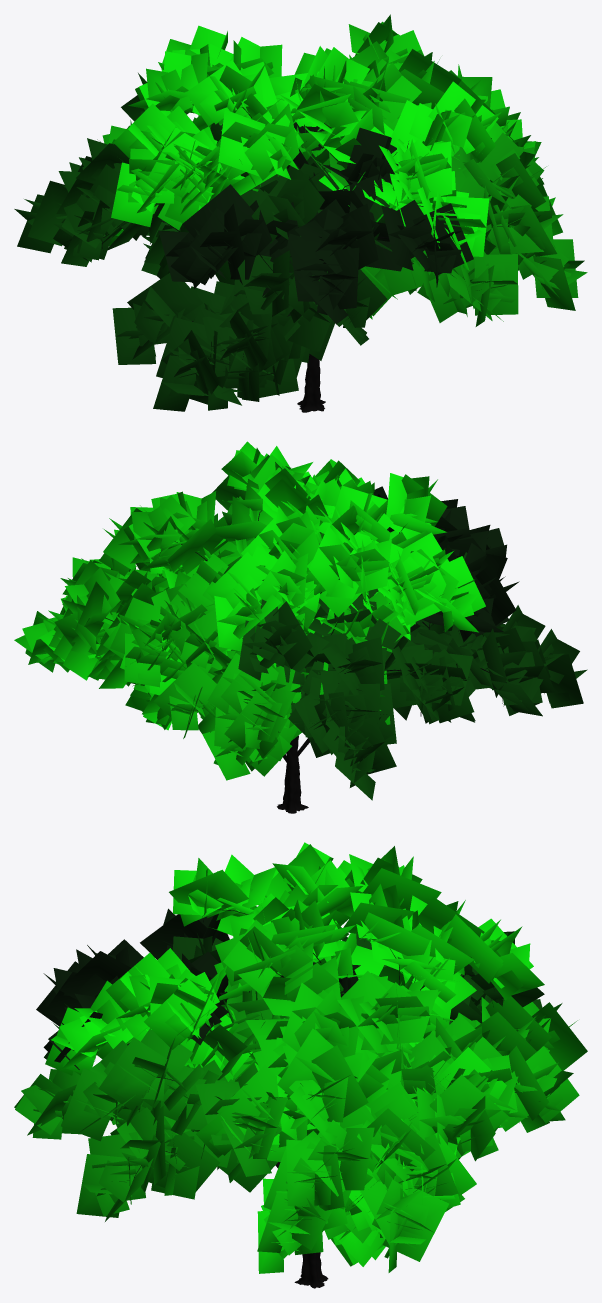
File: Euro_Beech_8.fbx
The picture shows the model from 3 angles, top to bottom: view 1: azimuth 30°, elevation 25°; view 2: azimuth 150°, elevation 25°; view 3: azimuth 270°, elevation 25°; orthographic projection. The views are drawn at different scales.
Visible parts, largest first — view 1: Euro_Beech_8; view 2: Euro_Beech_8; view 3: Euro_Beech_8.
Boxes of the visible parts, <box> form: Euro_Beech_8: <box>14,14,587,412</box>; Euro_Beech_8: <box>14,441,587,813</box>; Euro_Beech_8: <box>14,842,587,1288</box>.
Size of the model in its own units: 1178 by 828 by 1100.
